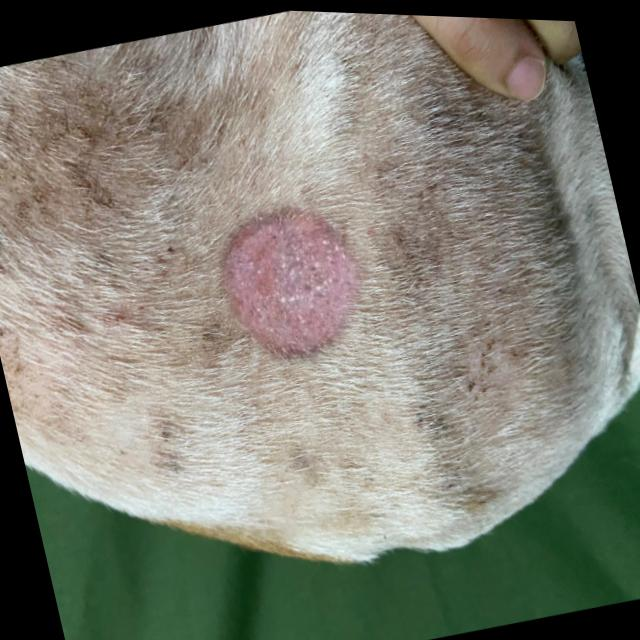ringworm: (181, 180, 393, 385)
